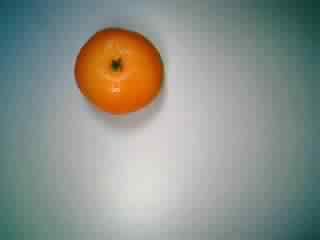orange: (71, 26, 166, 118)
